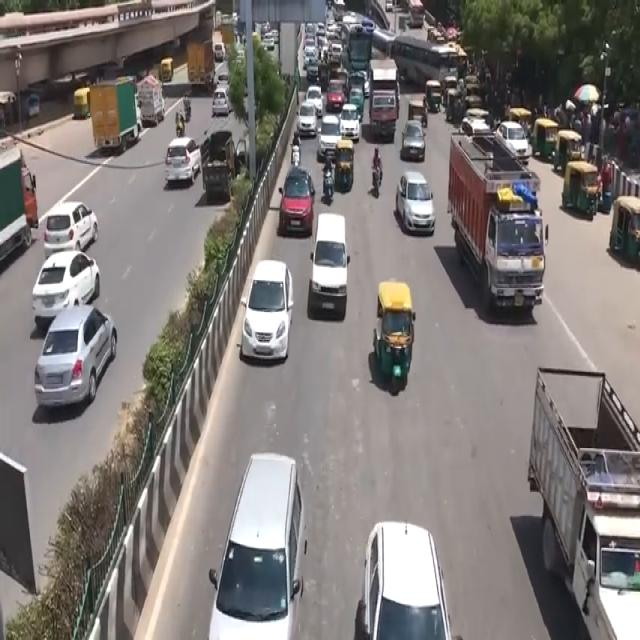BUS: (367, 57, 398, 142), (347, 30, 371, 76)
SED: (240, 252, 292, 368)
SUV: (366, 526, 453, 640), (308, 200, 356, 330)
TRUCK: (448, 131, 546, 318)
